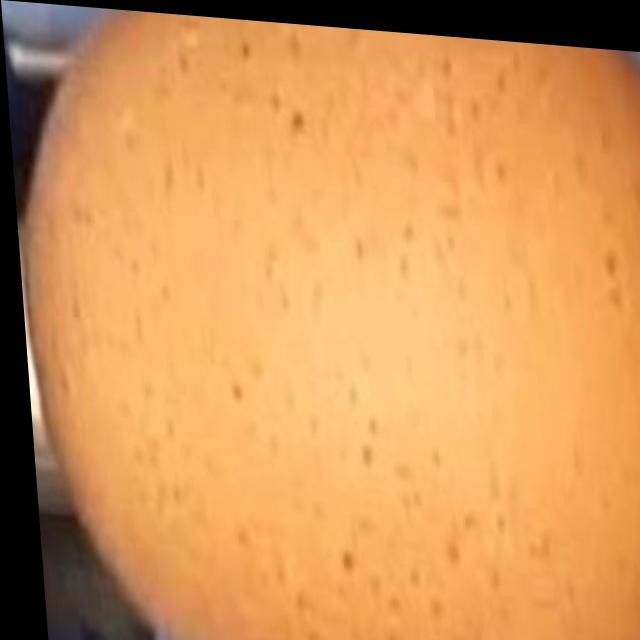unfresh: (21, 1, 640, 640)
